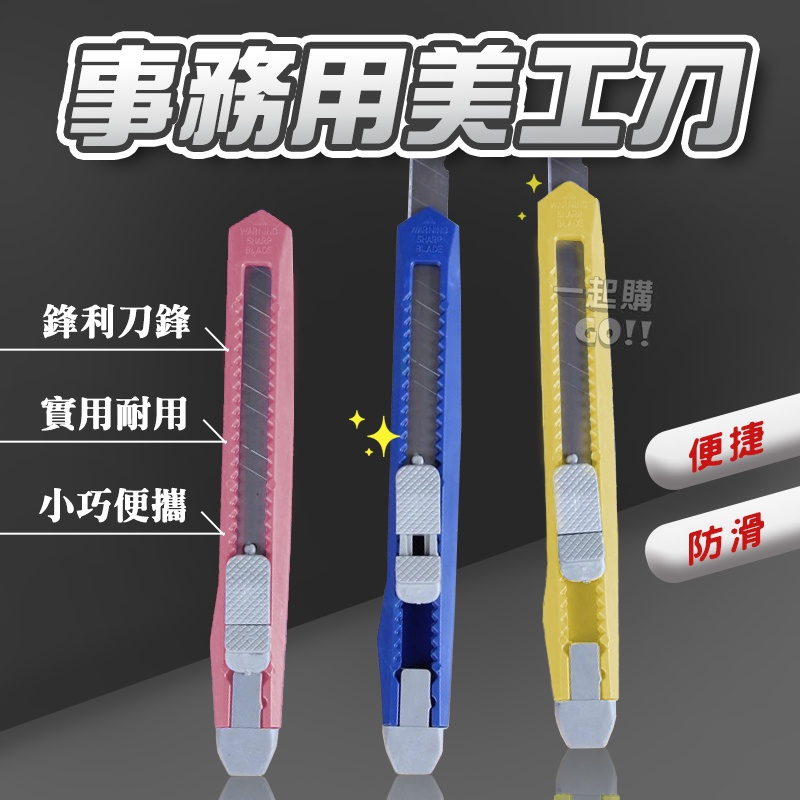cutter: (380, 151, 466, 777), (206, 207, 296, 779), (537, 159, 620, 751)
